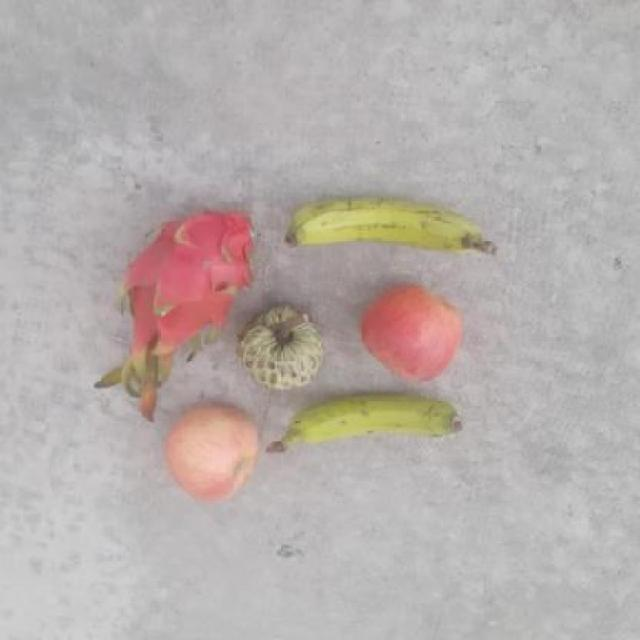apple: (351, 268, 468, 385), (155, 397, 267, 508)
banana: (282, 182, 491, 264), (270, 387, 465, 462)
dragon fruit: (118, 203, 274, 349)
sugar apple: (228, 301, 331, 402)
